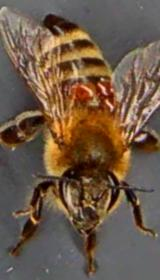varroa_mite: (62, 72, 96, 104), (92, 86, 126, 115), (96, 72, 118, 96)
